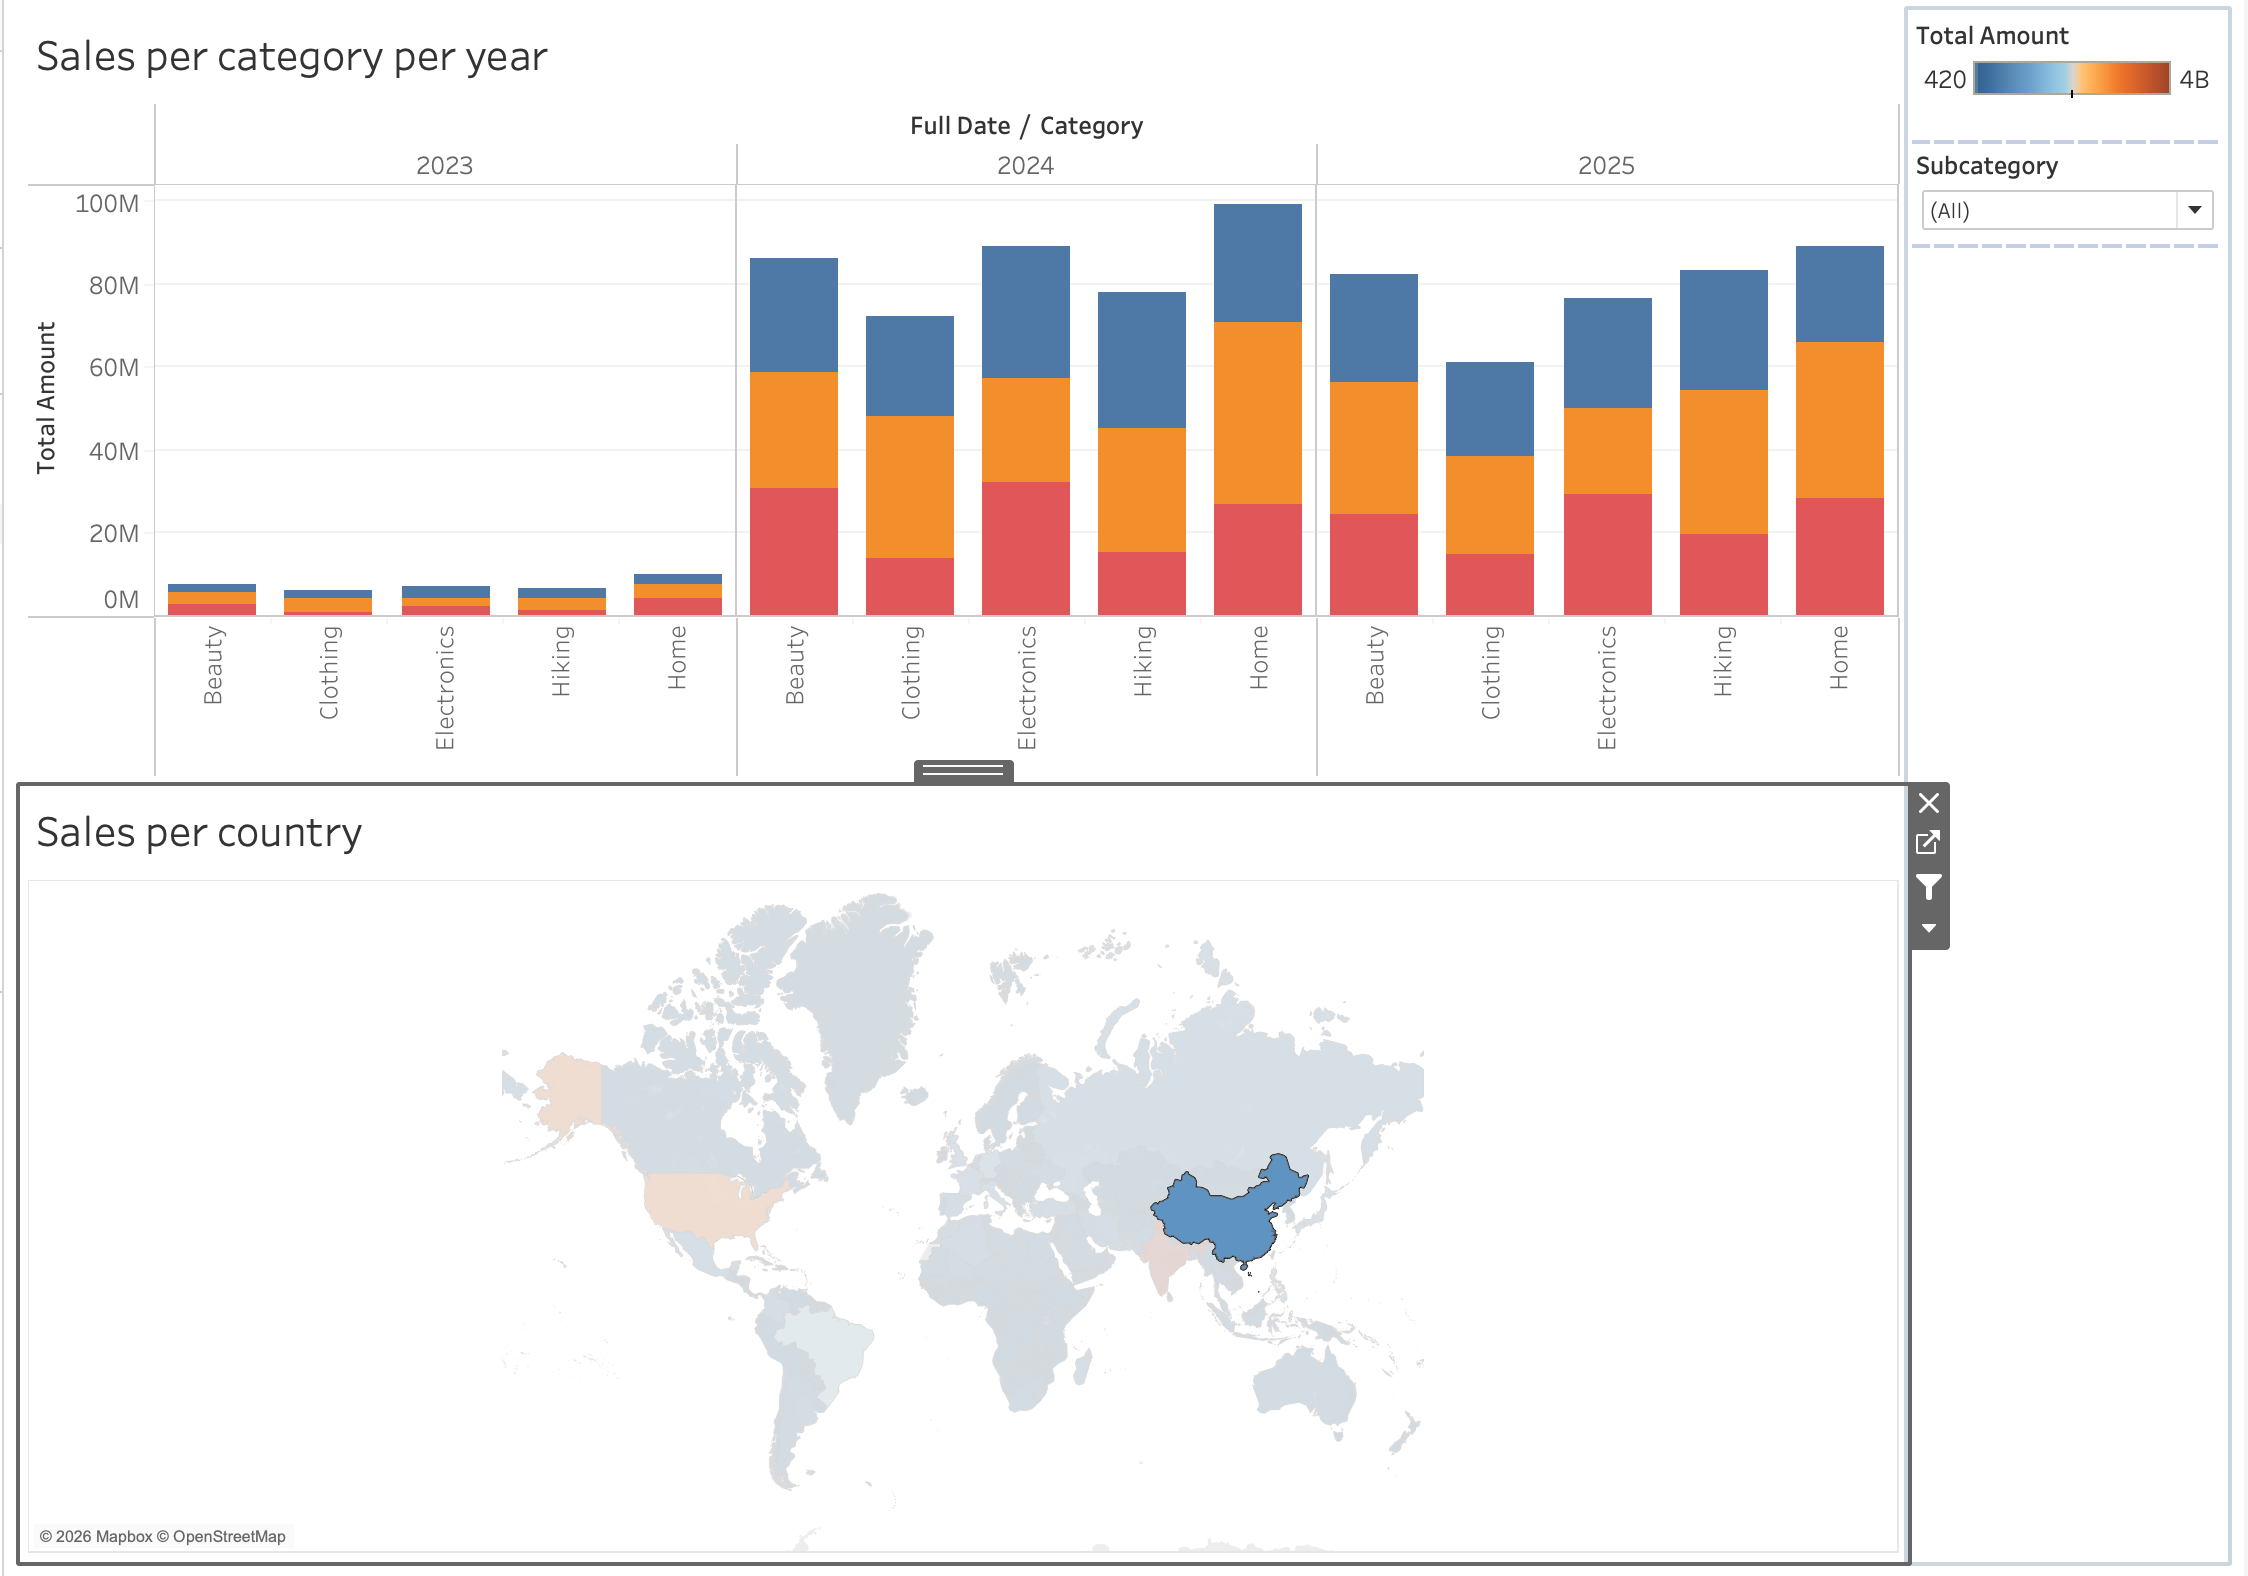

This screenshot's page, from the dashboard's own definition file:
{"tool":"tableau","page":{"name":"Dashboard 1","canvas":[1000,1000],"units":"permille","ordinal":0},"visuals":[{"type":"worksheet","title":"Sales per category per year","mark":"Bar","rows":["total_amount"],"cols":["full_date","category"],"box":[7.1,10.1,842.9,489.9]},{"type":"legend","title":"Sales per country","param":"[federated.0h7uzha07yite211ec62q0gw6nmg].[sum:total_amount:qk]","box":[850,10.1,142.9,82.1]},{"type":"filter","title":"Sales per category per year","param":"[federated.0h7uzha07yite211ec62q0gw6nmg].[none:subcategory:nk]","box":[850,92.2,142.9,65.7]},{"type":"worksheet","title":"Sales per country","mark":"Multipolygon","box":[7.1,500,842.9,489.9]}]}

Visuals, with their boxes on the dashboard's canvas, which has no fixed pixel size, in thousandths of its width and height (x1, y1, x2, y2). These are canvas units, not pixel positions in the 2248x1576 screenshot, which may show the page scaled, cropped or inside an application window:
"Sales per category per year" worksheet (Bar marks): (x1=7, y1=10, x2=850, y2=500)
"Sales per country" legend: (x1=850, y1=10, x2=993, y2=92)
"Sales per category per year" filter: (x1=850, y1=92, x2=993, y2=158)
"Sales per country" worksheet (Multipolygon marks): (x1=7, y1=500, x2=850, y2=990)
